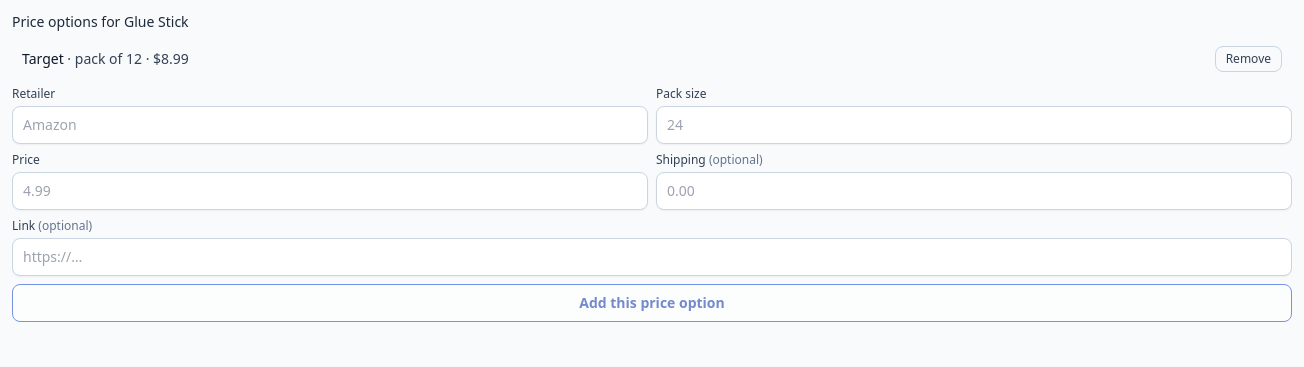
Test: ProductOfferForm › shows a specific message on the plan-already-generated 409 when removing
The image size is (1304, 367).
Click the button with aria-label "remove target price option" at [1248, 59], box [1215,46,1282,72]
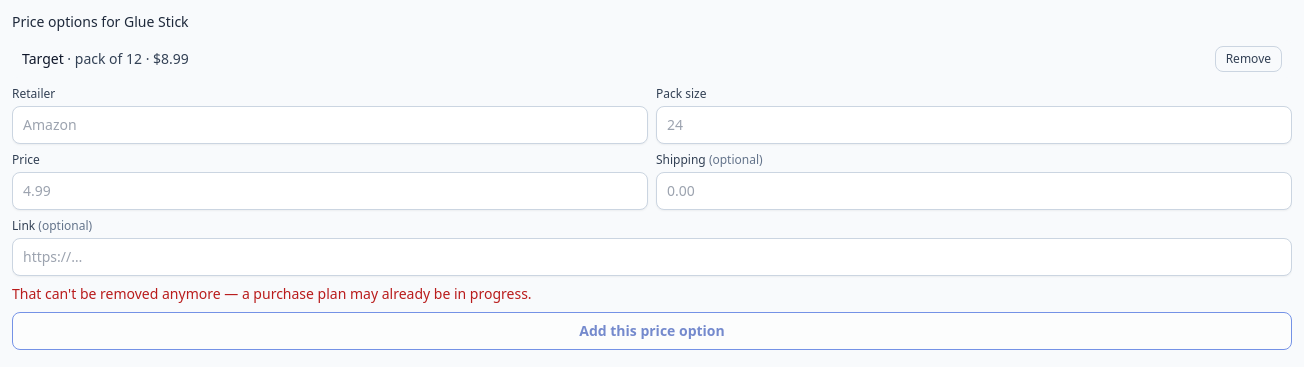
Now the text "That can't be removed anymore — a purchase plan may already be in progress." is shown, box [12,284,532,303]
